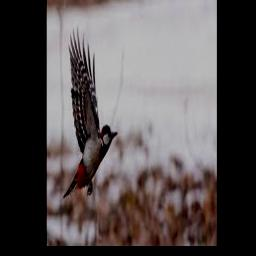Woodpecker: (63, 26, 118, 200)
